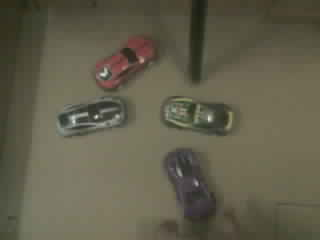Car: (164, 148, 214, 219), (95, 37, 154, 88), (161, 96, 233, 135), (57, 97, 125, 135)
